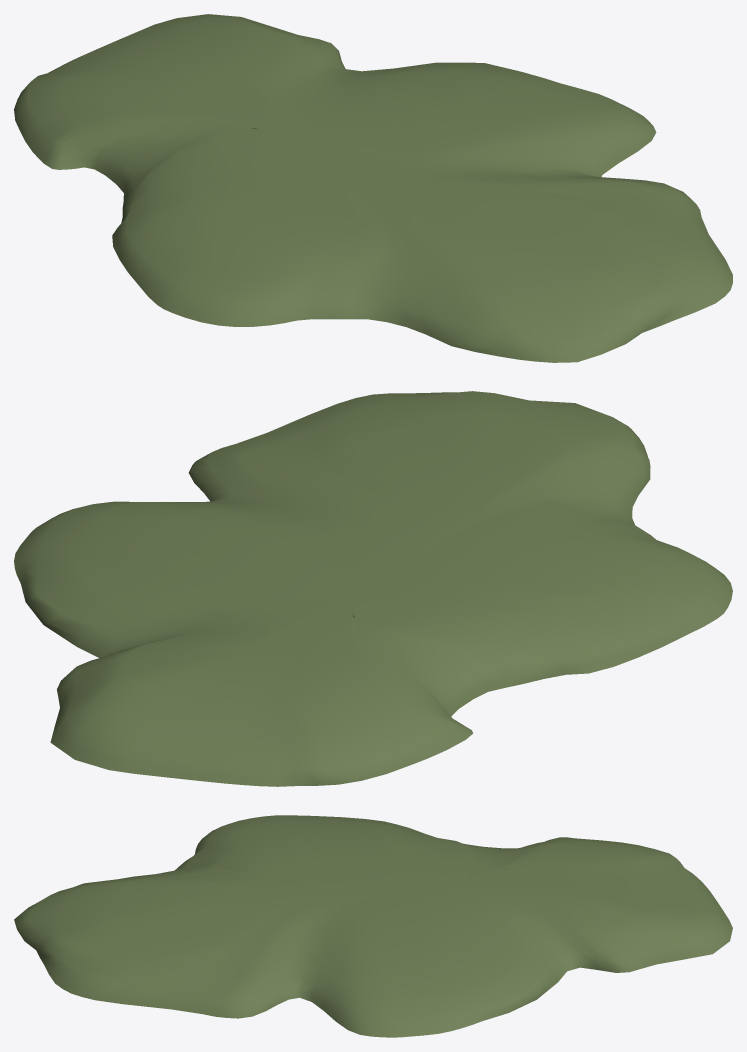
File: Slime2.fbx
3 renders of one model, top to bottom at view 1: azimuth 30°, elevation 25°; view 2: azimuth 150°, elevation 25°; view 3: azimuth 270°, elevation 25°, orthographic. The views are drawn at different scales.
Parts seen in each view (by area): view 1: Slime2; view 2: Slime2; view 3: Slime2.
Boxes of the visible parts, x1,y1,x2,y2 form: Slime2: (14, 14, 732, 362); Slime2: (14, 391, 732, 786); Slime2: (14, 815, 732, 1037).
Bounding box in the file's own units: 2.27 × 0.1388 × 3.16.
